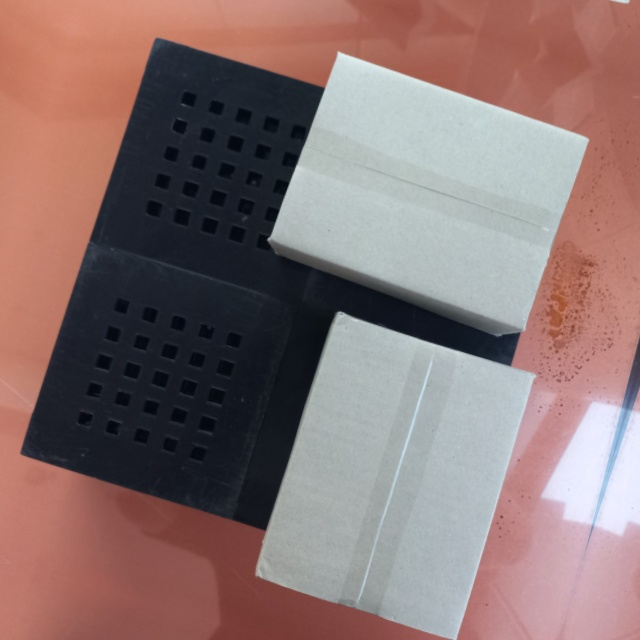box: (263, 44, 589, 345), (253, 307, 536, 640)
